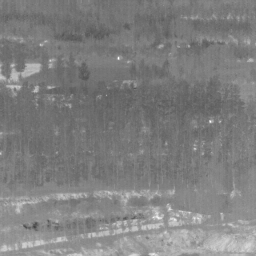aircraft: (106, 94, 108, 96)
